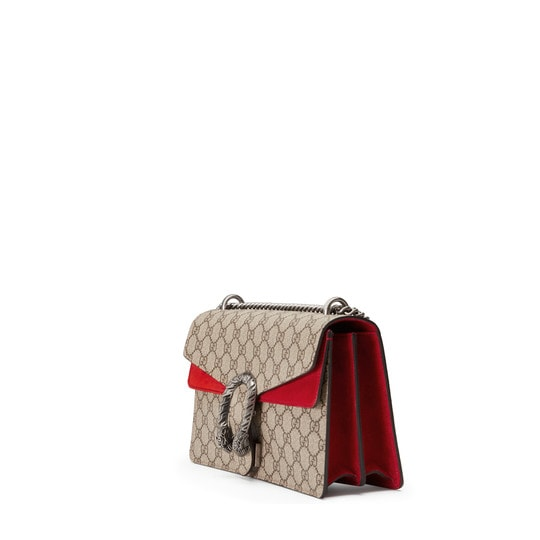Gucci: (168, 259, 418, 507), (188, 298, 303, 361), (205, 361, 274, 462)
